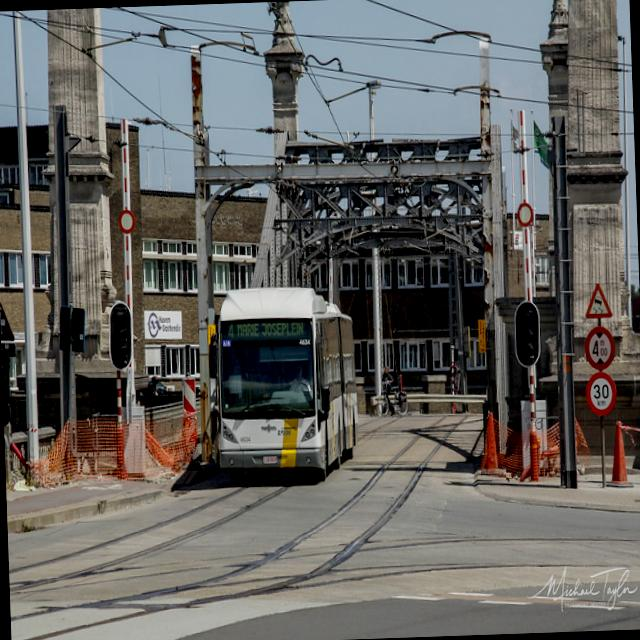bus-number: (226, 322, 234, 339)
